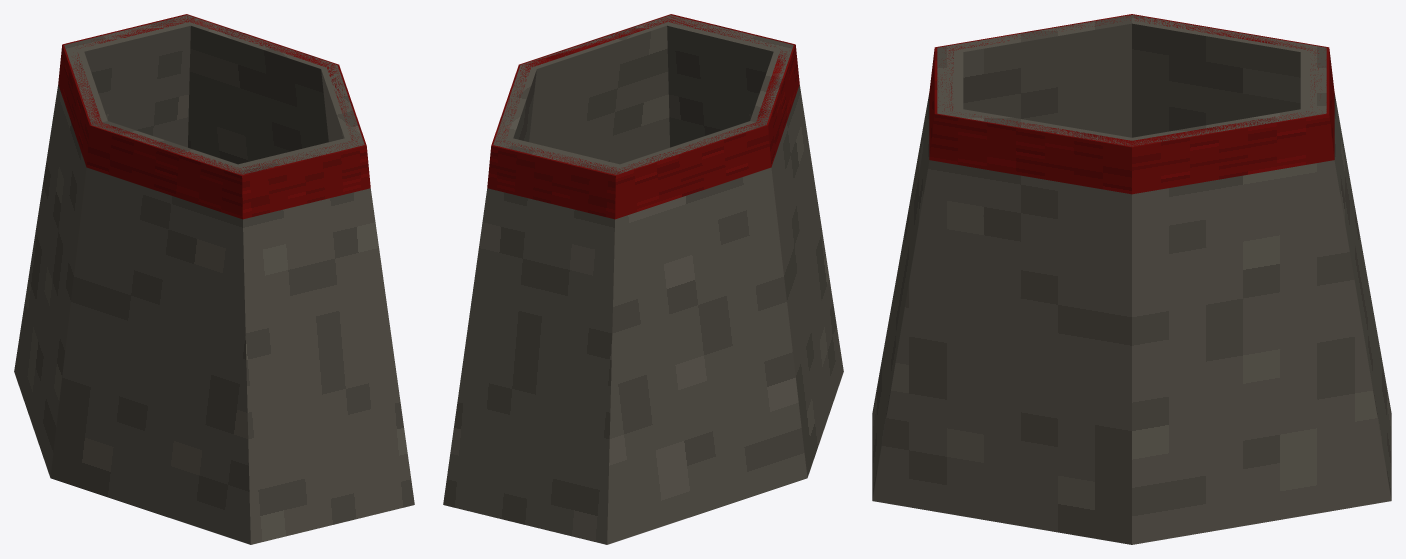
The model's file is fieltro.glb.
3 views of the same model, side by side, from view 1: azimuth 30°, elevation 25°; view 2: azimuth 150°, elevation 25°; view 3: azimuth 270°, elevation 25° (orthographic). The views are drawn at different scales.
Parts seen in each view (by area): view 1: faldar, cinturon; view 2: faldar, cinturon; view 3: faldar, cinturon.
Boxes of the visible parts, x1,y1,x2,y2 form: faldar: (14, 15, 414, 544); cinturon: (58, 14, 370, 219); faldar: (443, 15, 843, 544); cinturon: (487, 14, 799, 219); faldar: (872, 15, 1391, 544); cinturon: (929, 14, 1334, 194).
Size of the model in its own units: 0.4 by 0.4 by 0.5.
Materials: 1 (1 with a texture image).
